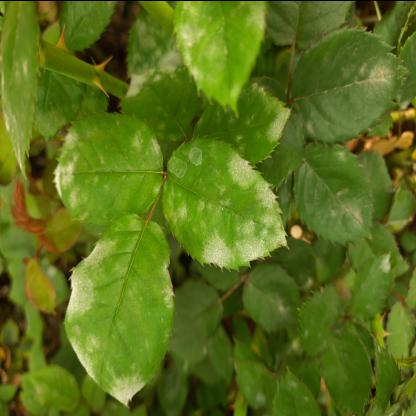powdery-mildew: (63, 202, 182, 402), (160, 137, 296, 287), (46, 104, 160, 233), (154, 0, 270, 108), (105, 11, 187, 111)
